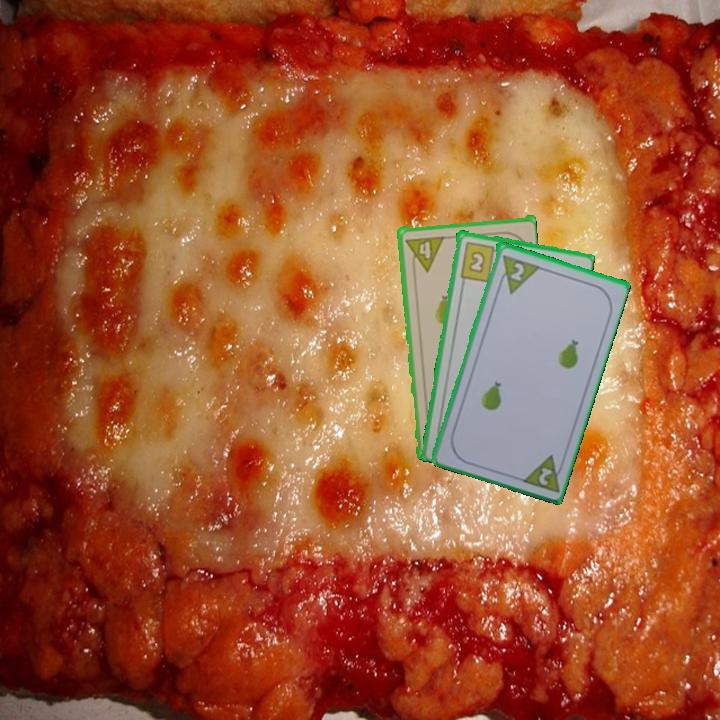2b: (457, 238, 503, 284)
2p: (506, 259, 527, 284), (534, 463, 555, 488)
4p: (401, 232, 446, 274)
